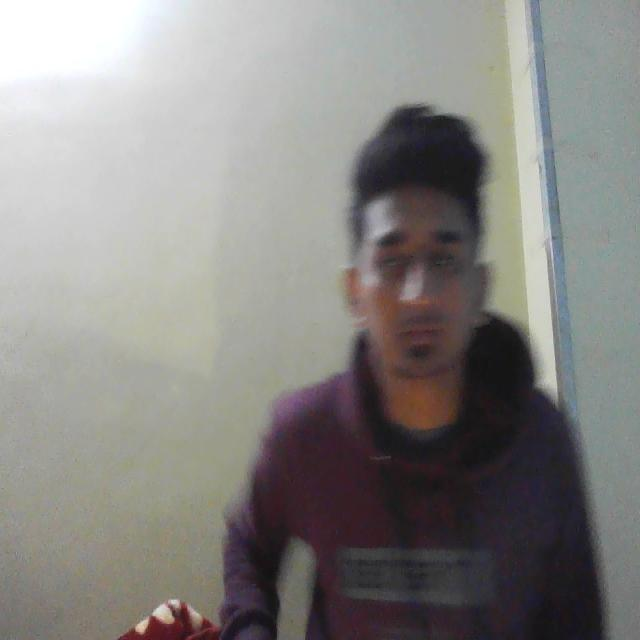real: (347, 120, 500, 409)
